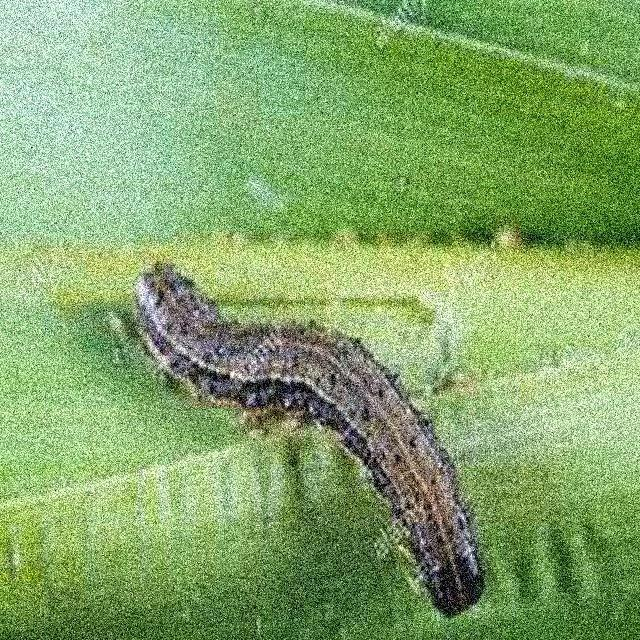gusano_cogollero: (125, 255, 488, 614)
